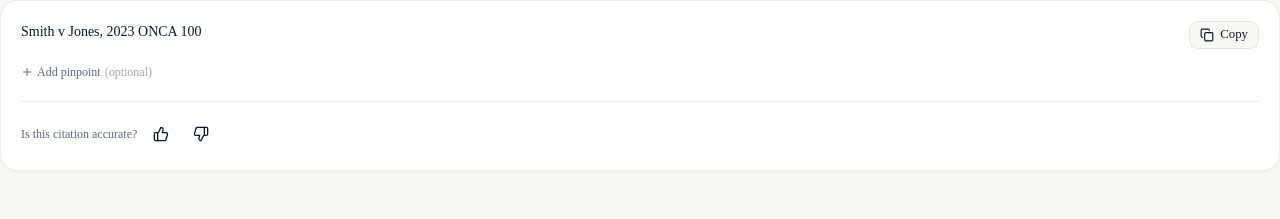
Test: CitationCard — period concatenation logic › handles citation without trailing period gracefully
Click the button "Add pinpoint (optional)" at (86, 72), box [21,64,152,80]
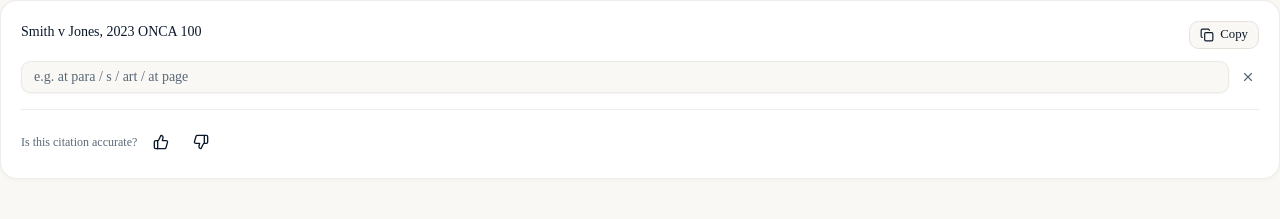
Type "at para 10" into the field named "pinpoint reference" at (625, 77), box [21,61,1229,93]
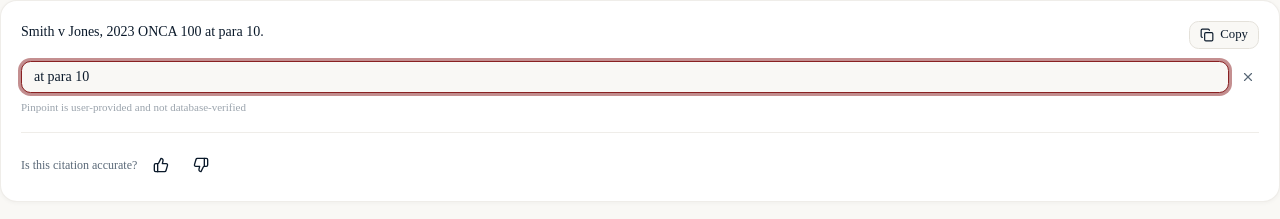
Expected: the text "Smith v Jones, 2023 ONCA 100 at para 10." is shown, [21,24,264,39]
